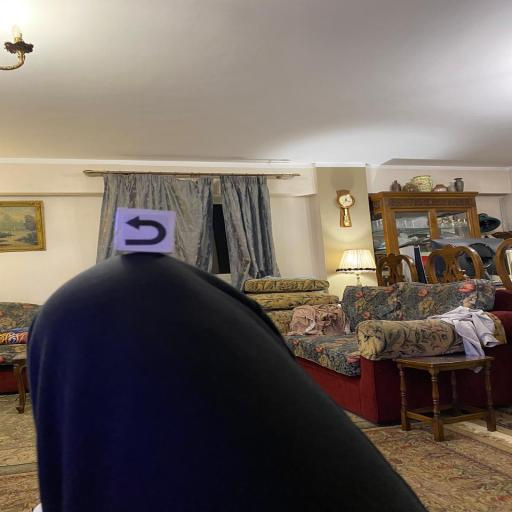Undo: (113, 207, 177, 254)
